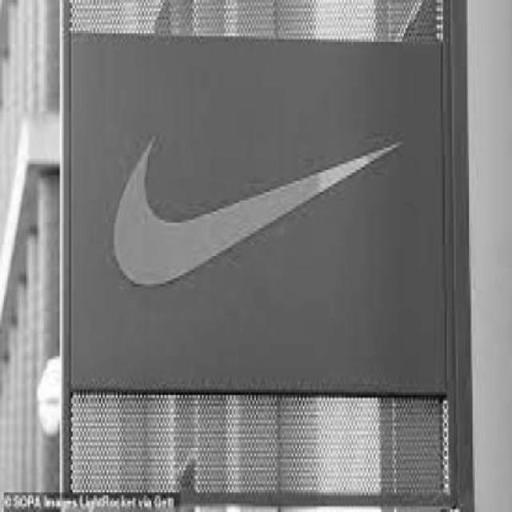Nike: (103, 114, 428, 299)
